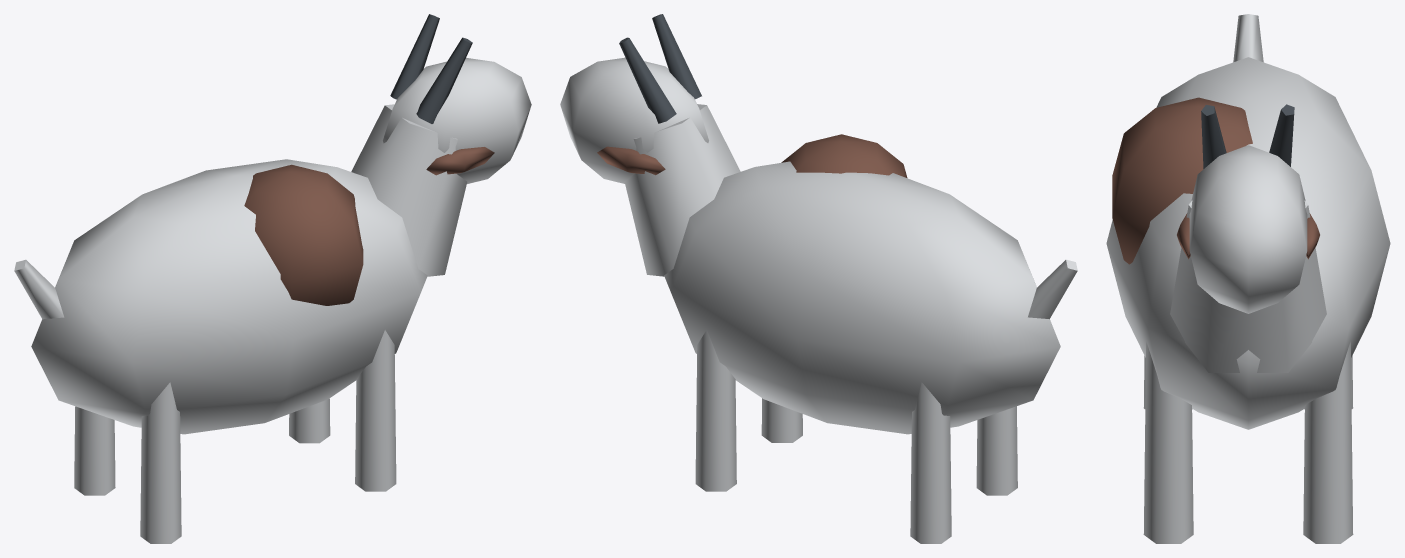
Rendered from goat.glb.
3 renders of one model, left to right at view 1: azimuth 30°, elevation 25°; view 2: azimuth 150°, elevation 25°; view 3: azimuth 270°, elevation 25°, orthographic. The views are drawn at different scales.
Parts seen in each view (by area): view 1: Goat; view 2: Goat; view 3: Goat.
Boxes of the visible parts, box(x1,y1,x2,y2) form: Goat: box(14, 14, 531, 543); Goat: box(560, 14, 1077, 543); Goat: box(1106, 14, 1390, 543).
Size of the model in its own units: 1.45 by 1.09 by 0.57.
